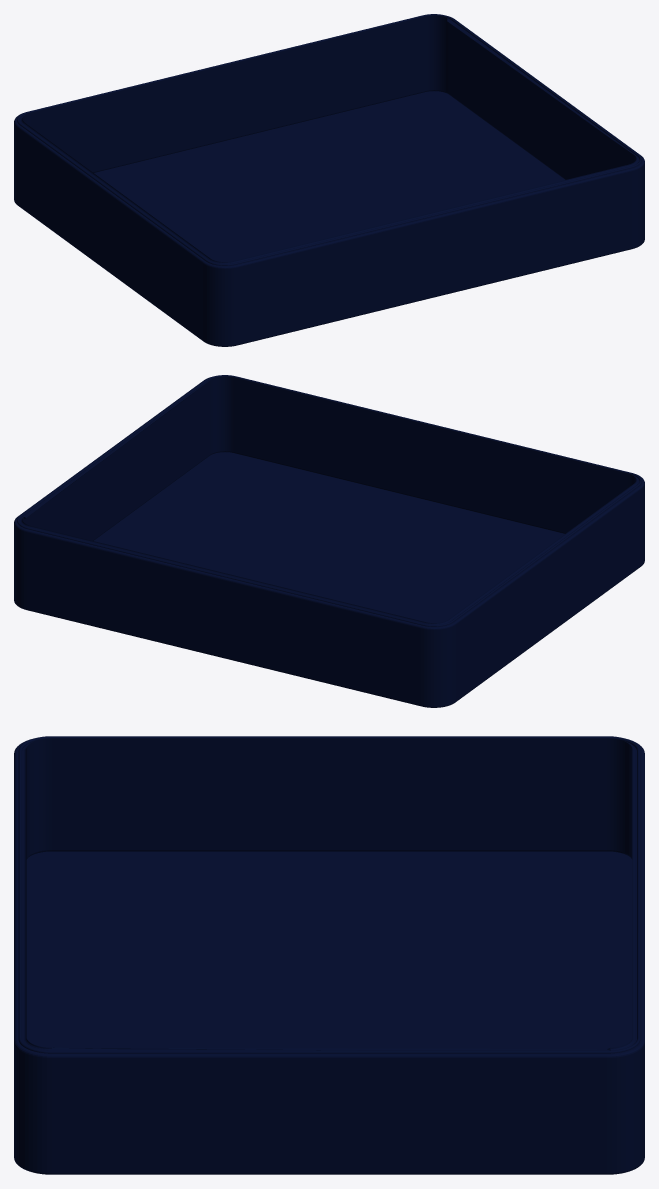
Rendered from lotock.obj.
3 renders of one model, top to bottom at view 1: azimuth 30°, elevation 25°; view 2: azimuth 150°, elevation 25°; view 3: azimuth 270°, elevation 25°, orthographic. The views are drawn at different scales.
Visible parts, largest first — view 1: Лоток_корпус, Лоток_верхняя_кромка; view 2: Лоток_корпус, Лоток_верхняя_кромка; view 3: Лоток_корпус, Лоток_верхняя_кромка.
Boxes of the visible parts, <box> form: Лоток_корпус: <box>14,15,644,346</box>; Лоток_верхняя_кромка: <box>17,14,641,265</box>; Лоток_корпус: <box>14,376,644,707</box>; Лоток_верхняя_кромка: <box>17,375,641,626</box>; Лоток_корпус: <box>14,738,644,1174</box>; Лоток_верхняя_кромка: <box>18,736,640,1053</box>.
Bounding box in the file's own units: 0.24 × 0.0428 × 0.2.
